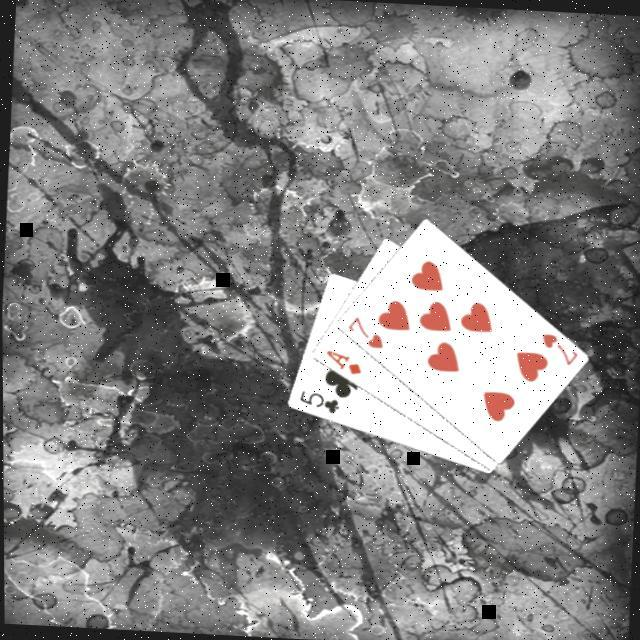5C: (296, 390, 344, 420)
7H: (344, 314, 390, 354), (538, 331, 584, 371)
AD: (322, 348, 367, 381)
